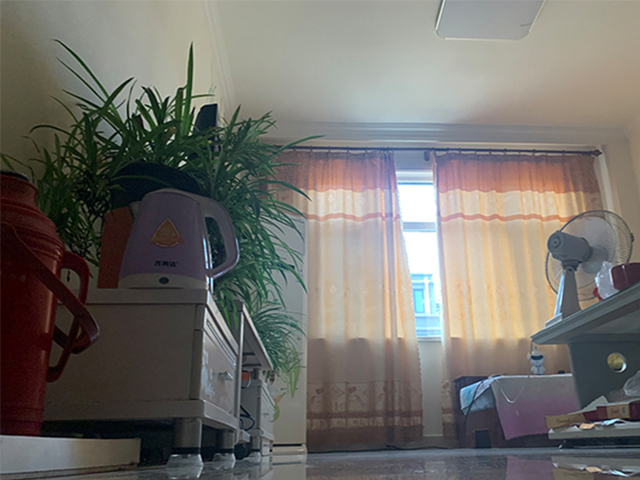cabinet: (42, 287, 277, 469)
curtain: (431, 149, 618, 448), (257, 149, 425, 447)
sofa: (453, 373, 579, 450)
table: (529, 282, 640, 449)
wire: (383, 376, 485, 452)
